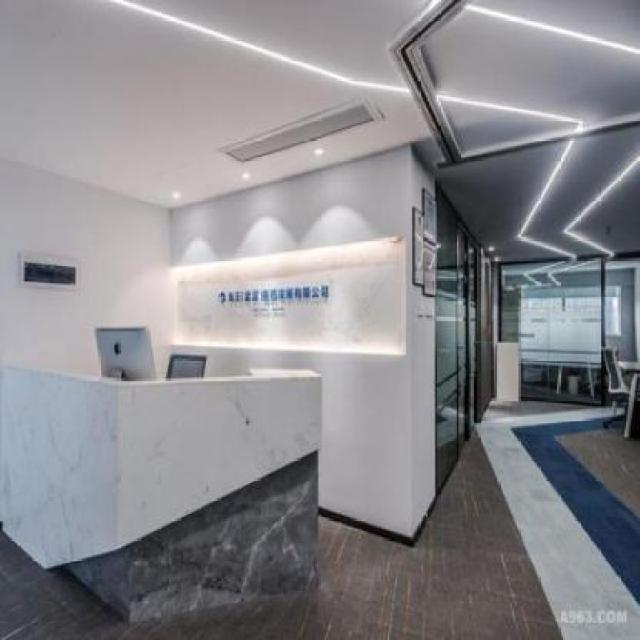frontdesk: (2, 348, 330, 628)
